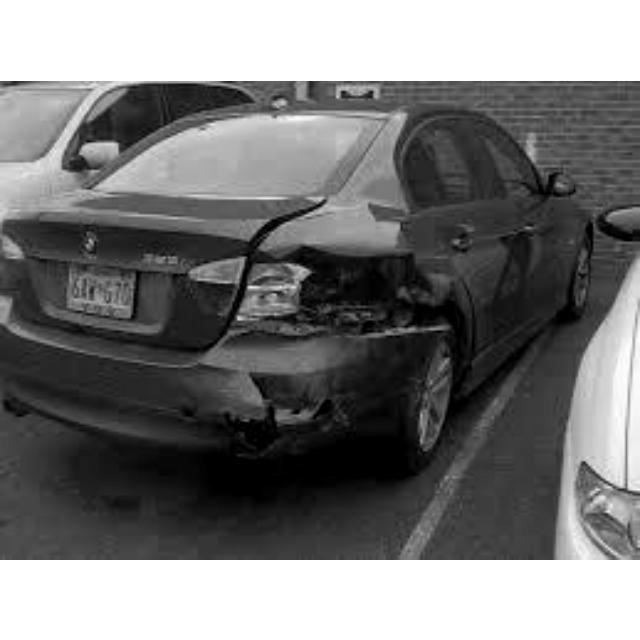Taillight-Damage: (198, 246, 306, 330)
quaterpanel-dent: (287, 206, 445, 334)
rear-bumper-dent: (186, 352, 356, 473)
